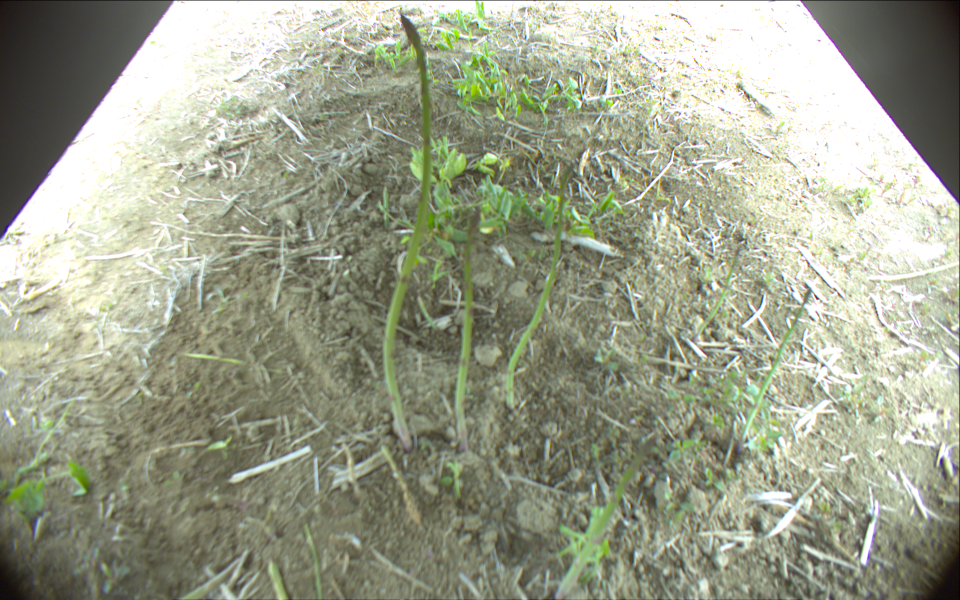aspa: (383, 14, 433, 451), (505, 164, 580, 410), (553, 435, 656, 600), (736, 289, 813, 453), (454, 204, 484, 451), (697, 246, 744, 341)
